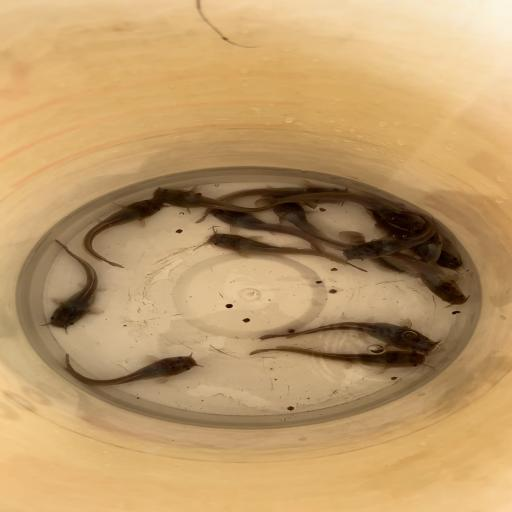lele: (336, 230, 468, 306), (190, 180, 352, 224), (204, 232, 369, 273), (254, 191, 419, 229), (82, 197, 169, 269), (364, 210, 465, 272), (258, 320, 440, 354), (210, 205, 326, 254), (340, 208, 439, 260), (46, 239, 102, 330), (271, 194, 360, 250), (338, 227, 444, 274), (64, 352, 202, 388), (150, 185, 318, 213), (247, 344, 429, 369)
